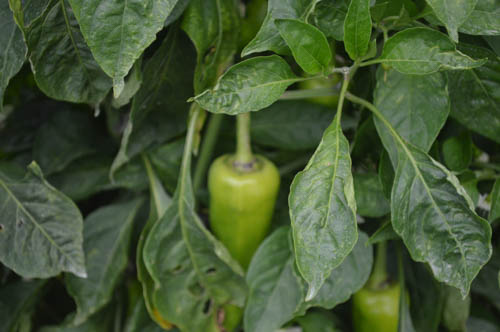ChiliPepper: (201, 158, 278, 332), (348, 281, 410, 332)
